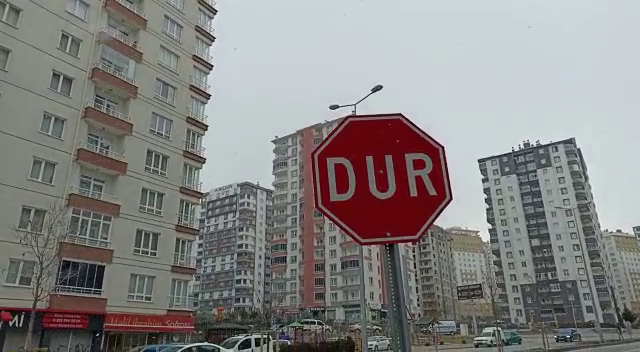stop: (307, 110, 458, 249)
